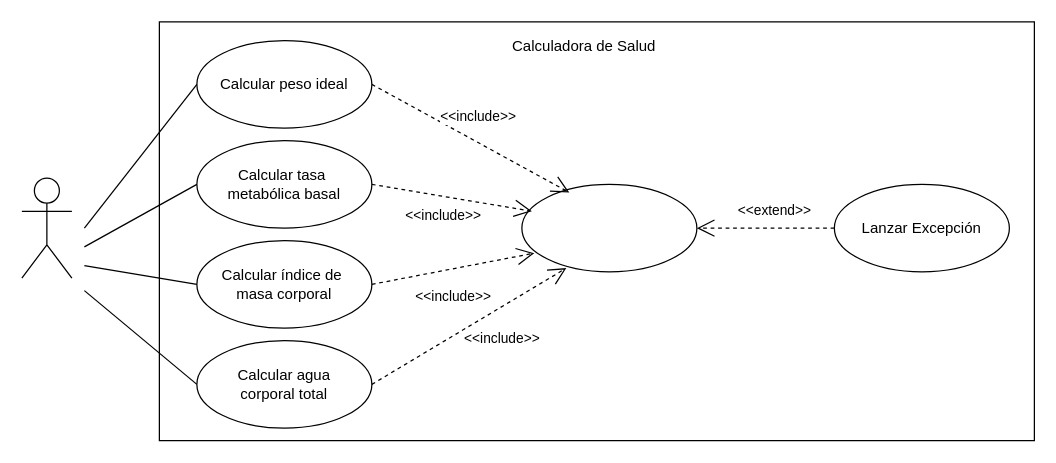
This 1056x463 diagram has some shape labels left out. Each missing label, with the centre of its shape:
Insertar Parámetros: point (609, 227)
Usuario: point (46, 227)
